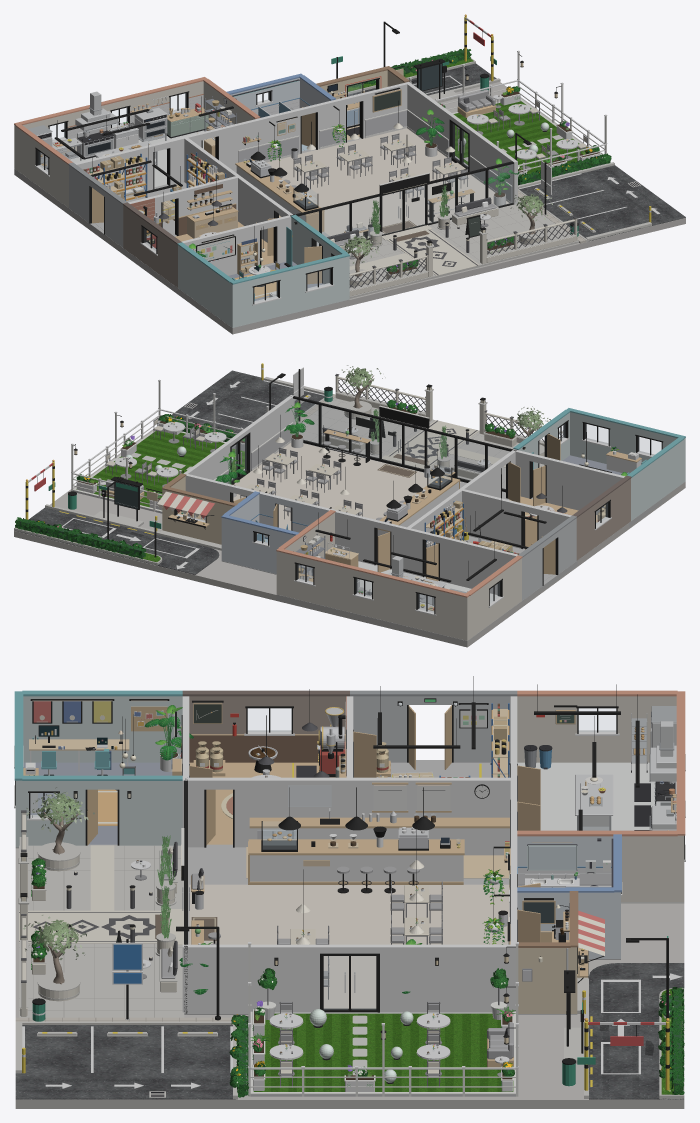
File: cafe_final.glb
3 renders of one model, top to bottom at view 1: azimuth 30°, elevation 25°; view 2: azimuth 150°, elevation 25°; view 3: azimuth 270°, elevation 25°, orthographic. The views are drawn at different scales.
Visible parts, largest first — view 1: Base_Flat, Entrance_S01_Flat, ParkingS01AsphaltTex, Base_Mat_0088b002, Entrance_S02_Flat, Salon_S01_Flat, Terrace_S04_Turf, Kitchen_S02_Flat, Storage_S01_Flat, Terrace_S01_Flat, Kitchen_S04_Flat, WC_S03_Flat (+33 smaller); view 2: Base_Flat, Entrance_S01_Flat, Base_Mat_0088b002, ParkingS01AsphaltTex, Terrace_S04_Turf, WC_S01_Flat, DriveThruS01AsphaltTex, Terrace_S01_Flat, Entrance_S02_Flat, Salon_S01_Flat, DriveThru_S01_Flat, WC_S03_Flat (+26 smaller); view 3: Base_Flat, Entrance_S01_Flat, Salon_S01_Flat, ParkingS01AsphaltTex, Terrace_S04_Turf, DriveThruS01AsphaltTex, Terrace_S01_Flat, Terrace_S05_Flat, Salon_S04_Flat, WC_S01_Flat, Kitchen_S02_Flat, Kitchen_S03_Flat (+40 smaller).
Part boxes in pixels (left/top/right/bottom): Base_Flat: left=14, top=66, right=685, bottom=334; Entrance_S01_Flat: left=348, top=172, right=578, bottom=298; ParkingS01AsphaltTex: left=519, top=165, right=685, bottom=241; Base_Mat_0088b002: left=299, top=164, right=512, bottom=245; Entrance_S02_Flat: left=349, top=216, right=577, bottom=296; Salon_S01_Flat: left=235, top=144, right=372, bottom=231; Terrace_S04_Turf: left=453, top=101, right=585, bottom=174; Kitchen_S02_Flat: left=28, top=91, right=167, bottom=169; Storage_S01_Flat: left=86, top=152, right=226, bottom=234; Terrace_S01_Flat: left=435, top=79, right=607, bottom=174; Kitchen_S04_Flat: left=166, top=96, right=236, bottom=156; WC_S03_Flat: left=230, top=78, right=330, bottom=115; Base_Flat: left=14, top=395, right=685, bottom=647; Entrance_S01_Flat: left=294, top=397, right=544, bottom=488; Base_Mat_0088b002: left=294, top=399, right=508, bottom=488; ParkingS01AsphaltTex: left=171, top=370, right=324, bottom=433; Terrace_S04_Turf: left=76, top=431, right=244, bottom=507; WC_S01_Flat: left=221, top=491, right=298, bottom=574; DriveThruS01AsphaltTex: left=14, top=507, right=219, bottom=574; Terrace_S01_Flat: left=71, top=408, right=250, bottom=513; Entrance_S02_Flat: left=335, top=374, right=563, bottom=456; Salon_S01_Flat: left=283, top=475, right=460, bottom=535; DriveThru_S01_Flat: left=45, top=504, right=221, bottom=569; WC_S03_Flat: left=230, top=493, right=328, bottom=539; Base_Flat: left=14, top=690, right=685, bottom=1108; Entrance_S01_Flat: left=19, top=828, right=217, bottom=1017; Salon_S01_Flat: left=248, top=817, right=509, bottom=944; ParkingS01AsphaltTex: left=15, top=1025, right=235, bottom=1099; Terrace_S04_Turf: left=253, top=1013, right=513, bottom=1091; DriveThruS01AsphaltTex: left=589, top=963, right=684, bottom=1099; Terrace_S01_Flat: left=248, top=953, right=518, bottom=1096; Terrace_S05_Flat: left=248, top=942, right=518, bottom=1096; Salon_S04_Flat: left=278, top=782, right=510, bottom=944; WC_S01_Flat: left=517, top=834, right=622, bottom=959; Kitchen_S02_Flat: left=634, top=706, right=676, bottom=830; Kitchen_S03_Flat: left=524, top=713, right=647, bottom=830.
Size of the model in its own units: 24.11 by 3.46 by 20.09.
5 materials, 3 textured.
